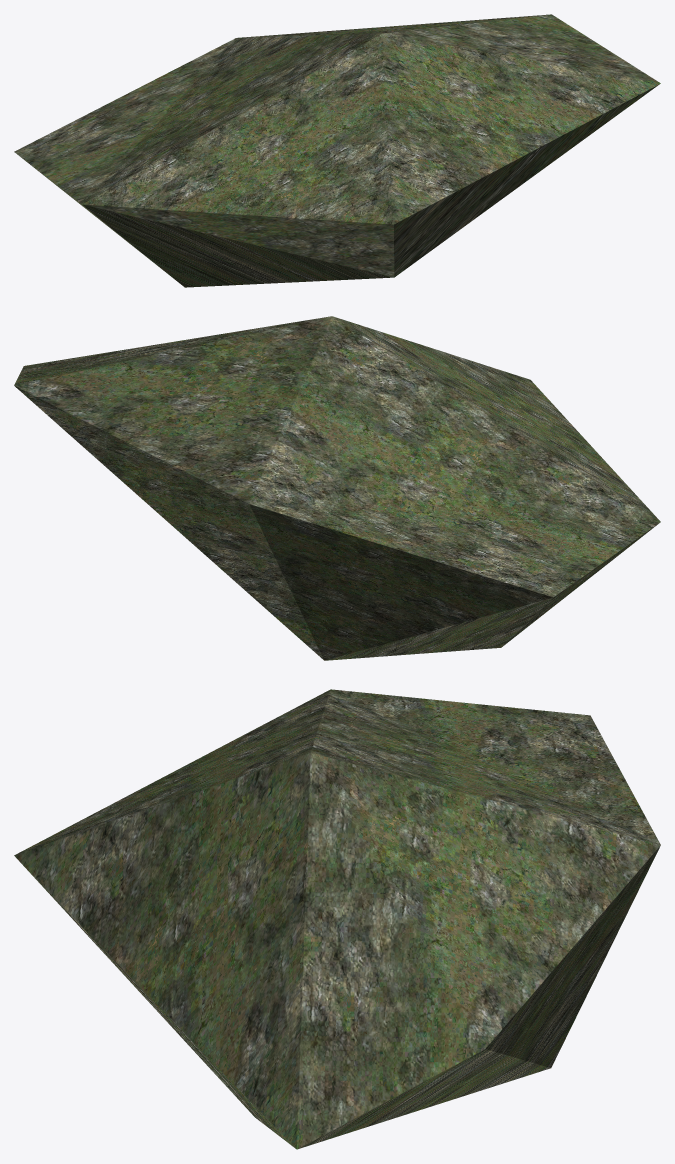
Rendered from mtns_rock_moss_a2_l3.fbx.
The picture shows the model from 3 angles, top to bottom: view 1: azimuth 30°, elevation 25°; view 2: azimuth 150°, elevation 25°; view 3: azimuth 270°, elevation 25°; orthographic projection. The views are drawn at different scales.
Parts seen in each view (by area): view 1: mesh_node; view 2: mesh_node; view 3: mesh_node.
Part boxes in pixels (x1=…): mesh_node: x1=14, y1=14, x2=660, y2=287; mesh_node: x1=14, y1=316, x2=660, y2=660; mesh_node: x1=14, y1=689, x2=660, y2=1149.
Bounding box in the file's own units: 3.12 × 1.21 × 1.92.
